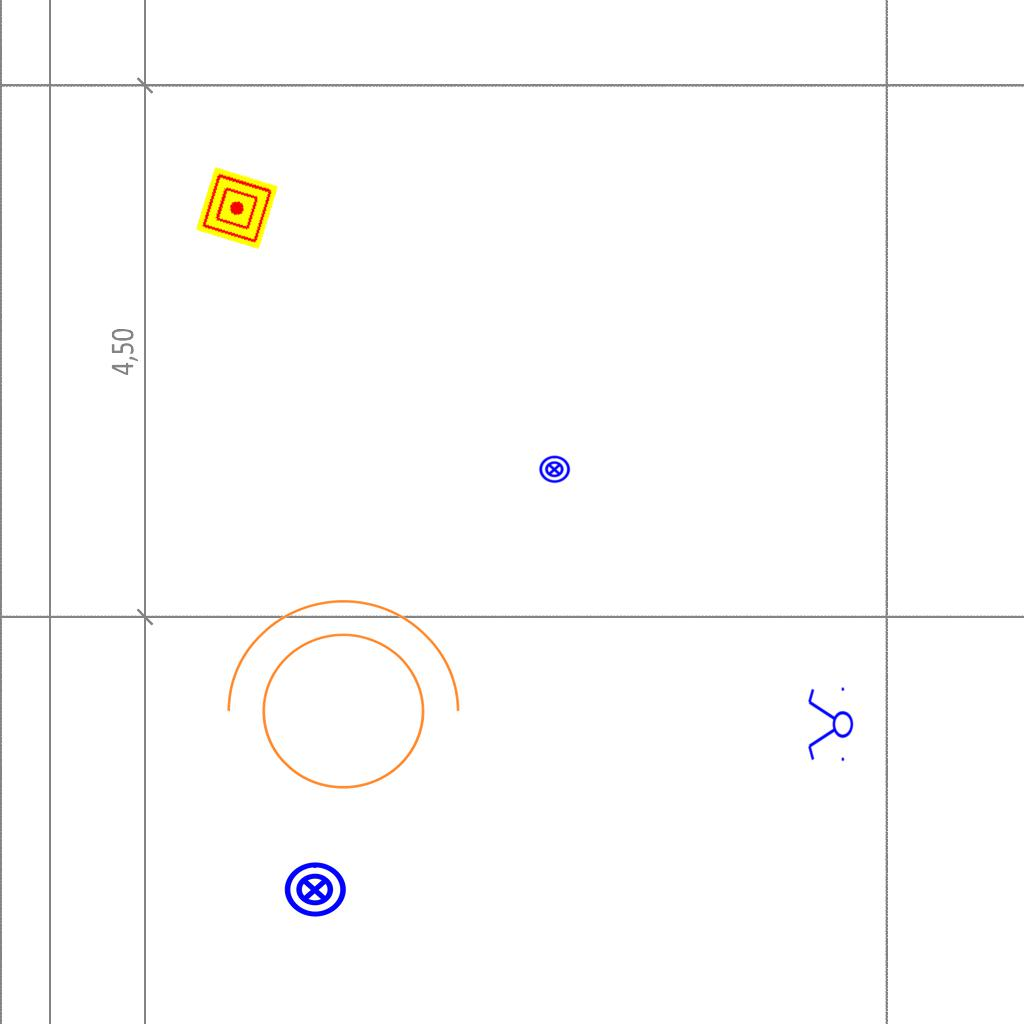NAM-Nichtautomatischer_Melder: (195, 166, 279, 250)
Scheinwerfer_fuer_Alarmbeleuchtung: (205, 589, 469, 814)
Serienschalter: (806, 683, 854, 767)
Taster_beleuchtet: (282, 857, 348, 923), (538, 453, 571, 486)
